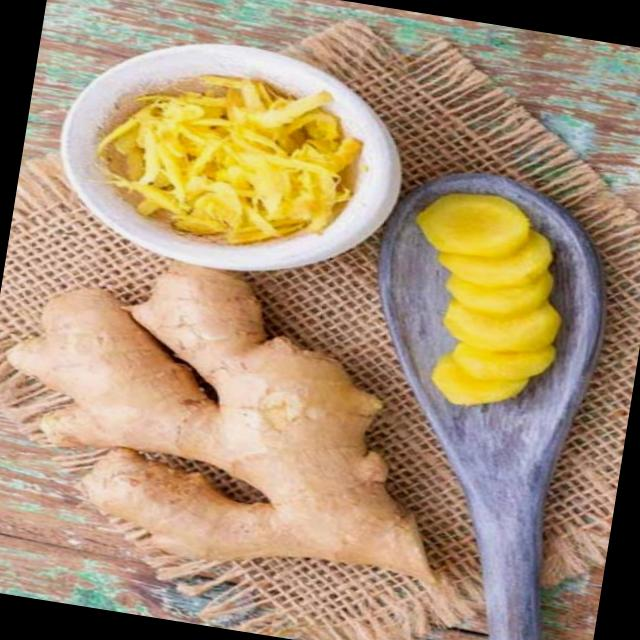ginger-root: (0, 233, 462, 611)
